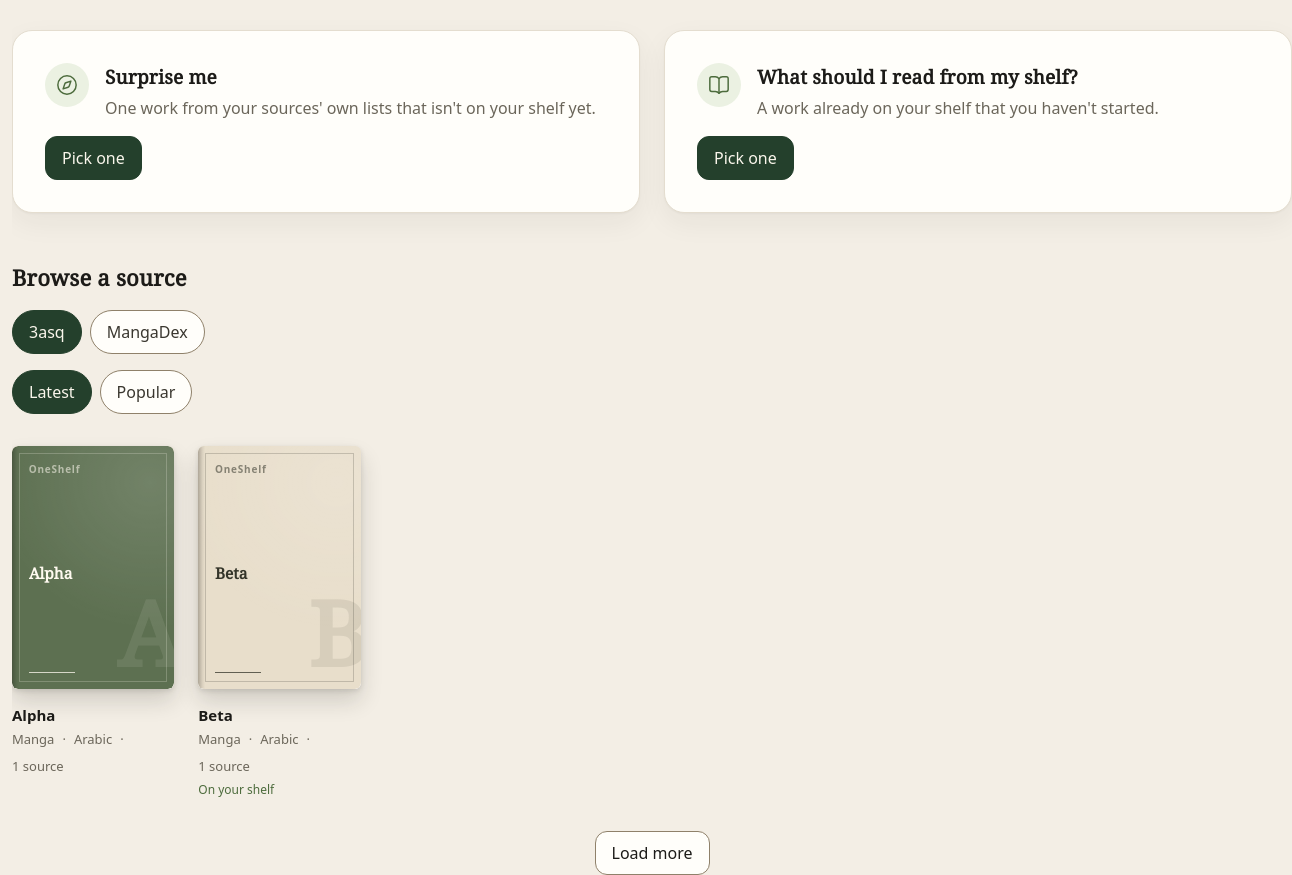
Test: Discover › reads a source's list one page at a time and says when it ends
The image size is (1292, 875).
(page scrolled)
Expected: the text "Alpha" is shown, [12, 705, 55, 725]
Expected: the text "On your shelf" is shown, [198, 781, 274, 799]
Click the button "Load more" at (652, 853), box [594, 831, 710, 874]
(page scrolled)
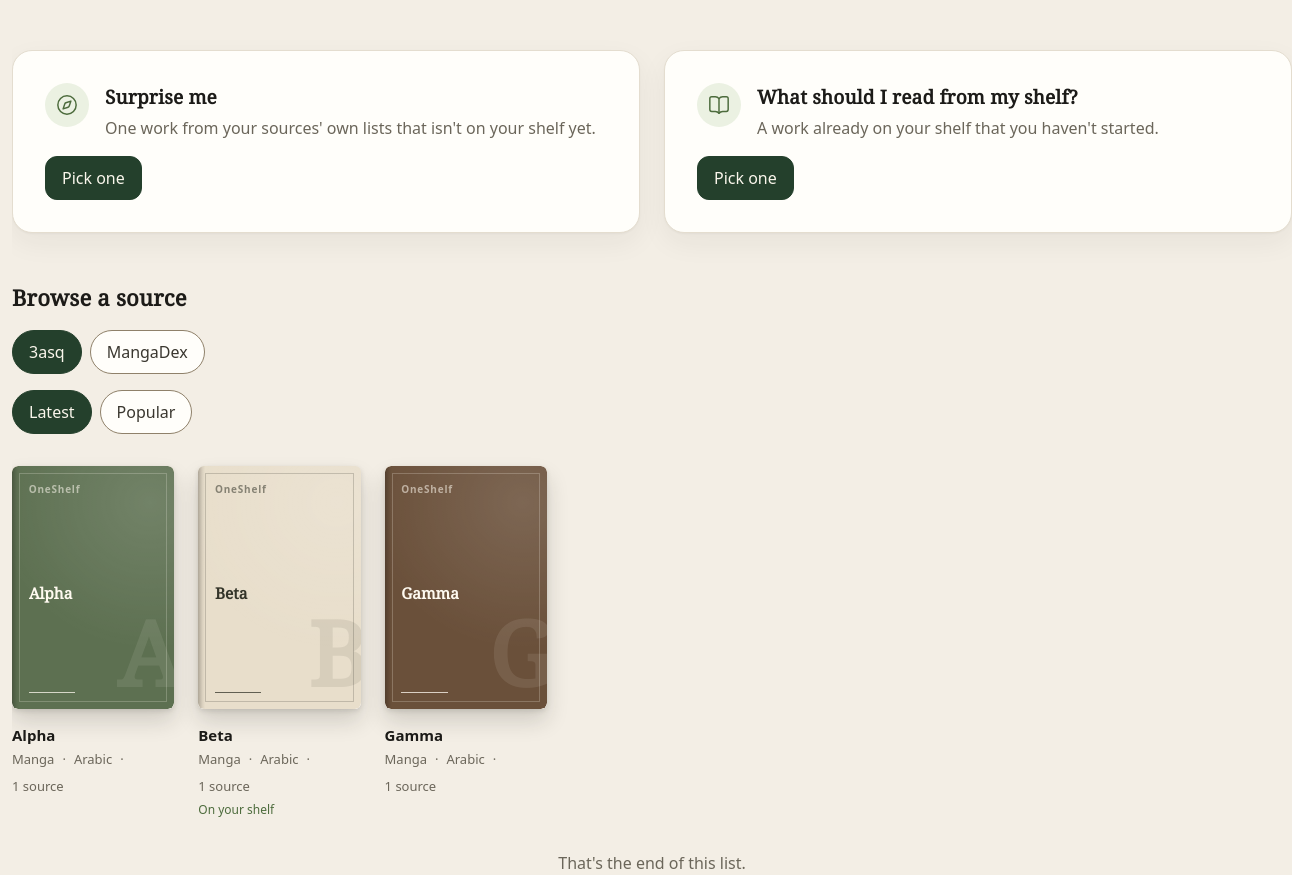
Result: the text "Gamma" is shown at [385, 725, 443, 745]
Result: the number of list items is 3 at [12, 466, 174, 819]; [198, 466, 361, 819]; [385, 466, 547, 819]
Result: the text "That's the end of this list." is shown at [558, 851, 746, 874]
